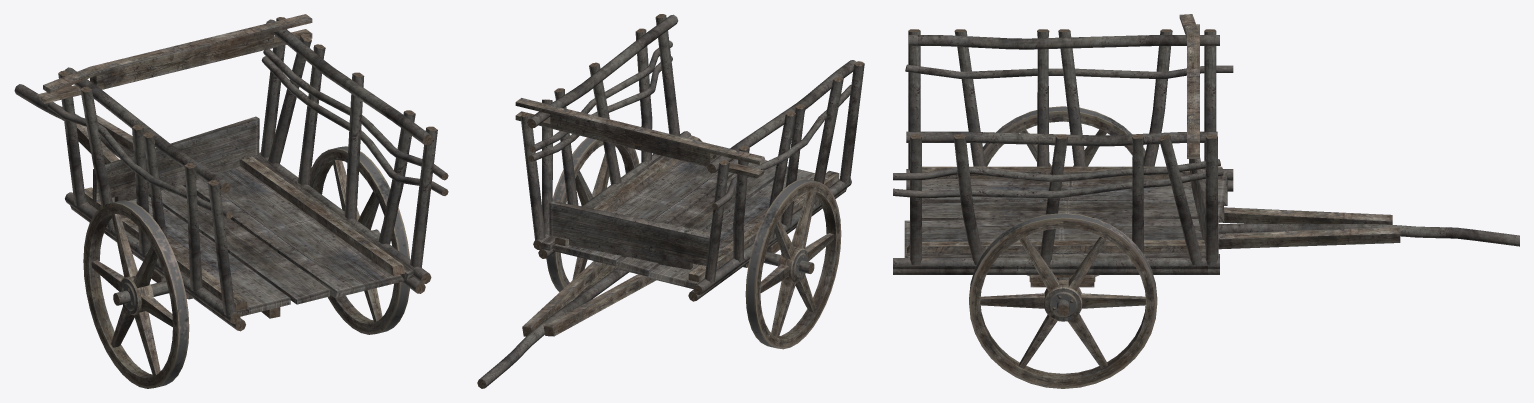
File: SM_Wagon03.FBX
3 views of the same model, side by side, from view 1: azimuth 30°, elevation 25°; view 2: azimuth 150°, elevation 25°; view 3: azimuth 270°, elevation 25° (orthographic). The views are drawn at different scales.
Parts seen in each view (by area): view 1: SM_Wagon03; view 2: SM_Wagon03; view 3: SM_Wagon03.
Boxes of the visible parts, x1,y1,x2,y2 form: SM_Wagon03: (14, 14, 448, 388); SM_Wagon03: (477, 14, 864, 388); SM_Wagon03: (893, 14, 1519, 388).
Bounding box in the file's own units: 198 × 179 × 400.
